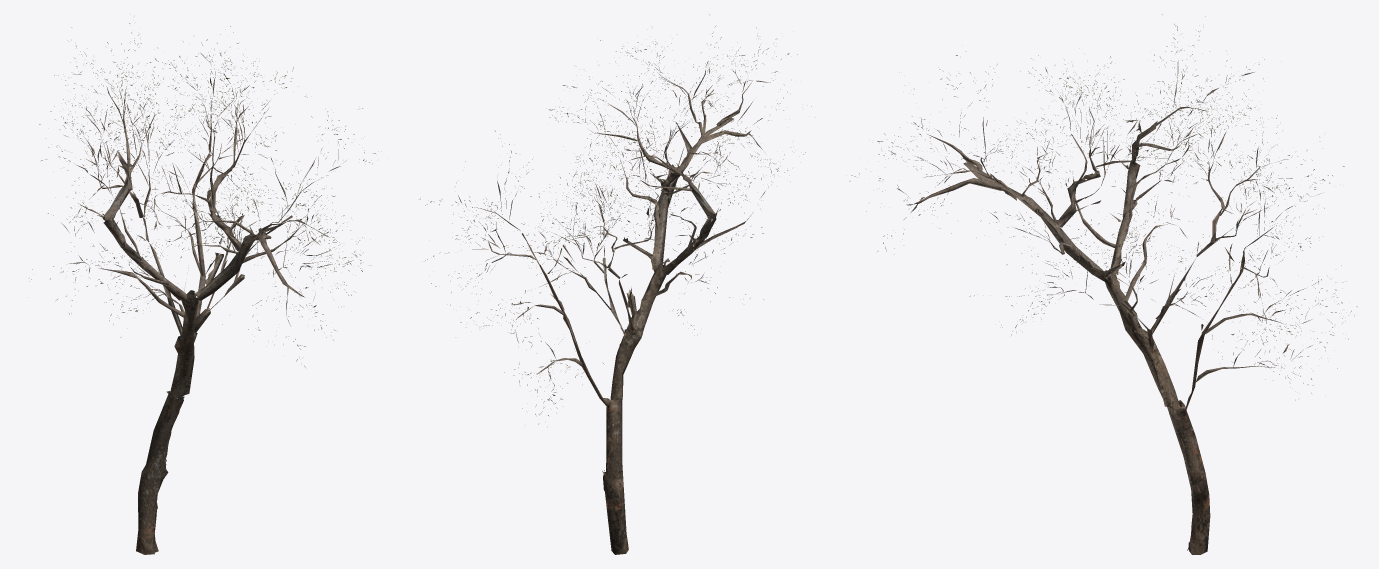
Rendered from tree_tree_small_02_mature.glb.
3 renders of one model, left to right at view 1: azimuth 30°, elevation 25°; view 2: azimuth 150°, elevation 25°; view 3: azimuth 270°, elevation 25°, orthographic. The views are drawn at different scales.
Visible parts, largest first — view 1: tree_tree_small_02_mature; view 2: tree_tree_small_02_mature; view 3: tree_tree_small_02_mature.
Boxes of the visible parts, <box> form: tree_tree_small_02_mature: <box>29,23,375,554</box>; tree_tree_small_02_mature: <box>419,26,811,554</box>; tree_tree_small_02_mature: <box>849,16,1357,554</box>.
Size of what is drawn, in the model's own units: 7.47 by 12 by 11.3.
Materials: 3 (3 with a texture image).
